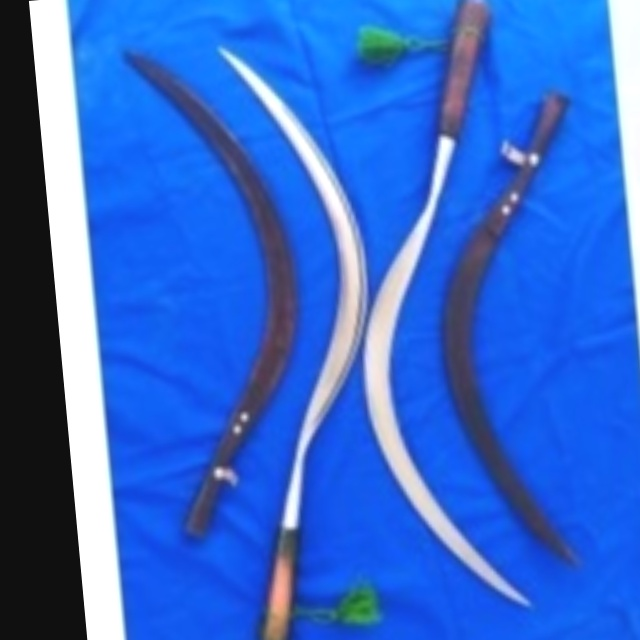Sharp-Object: (322, 0, 552, 629), (194, 18, 407, 640)
